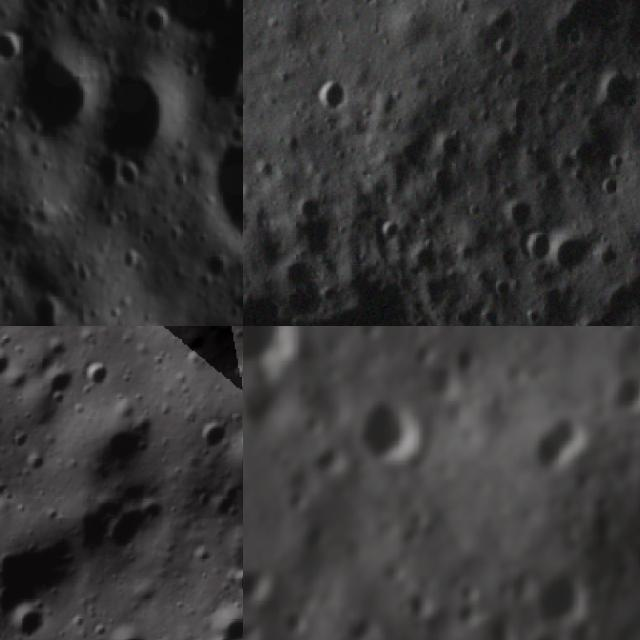crater: (5, 32, 105, 142), (92, 63, 184, 165), (95, 476, 178, 569), (205, 121, 243, 252), (368, 401, 426, 474), (157, 0, 238, 42), (542, 421, 586, 480), (529, 580, 587, 622), (1, 594, 52, 640), (187, 411, 233, 460), (598, 65, 640, 118), (544, 236, 597, 278), (36, 358, 81, 405), (107, 151, 146, 202), (243, 326, 290, 368), (493, 194, 537, 236), (221, 423, 243, 500), (311, 76, 348, 121), (75, 352, 116, 392), (0, 22, 33, 71), (100, 614, 156, 640), (520, 230, 558, 268), (290, 190, 326, 228), (20, 442, 51, 480), (243, 564, 269, 605), (618, 377, 640, 414), (0, 340, 17, 387), (282, 612, 305, 640), (225, 565, 243, 599)
